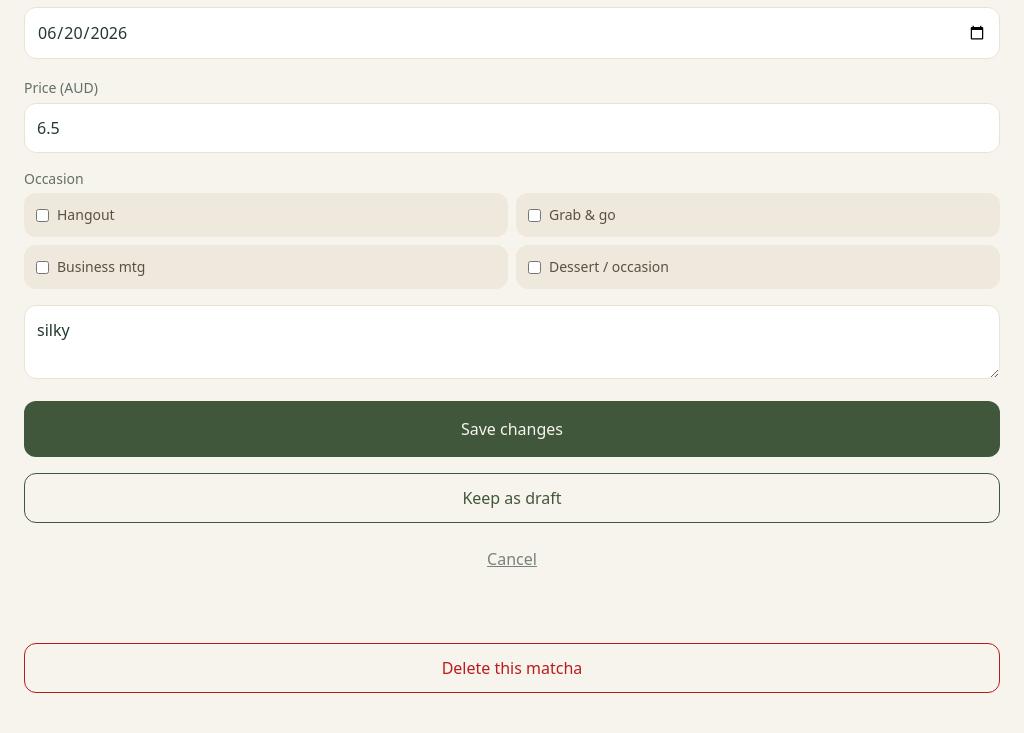
Test case: ReviewDetail › shows a delete-specific error when deleting a draft fails
This screenshot has width=1024, height=733.
(page scrolled)
Click the button "Delete this matcha" at (512, 668), box [24, 643, 1000, 693]
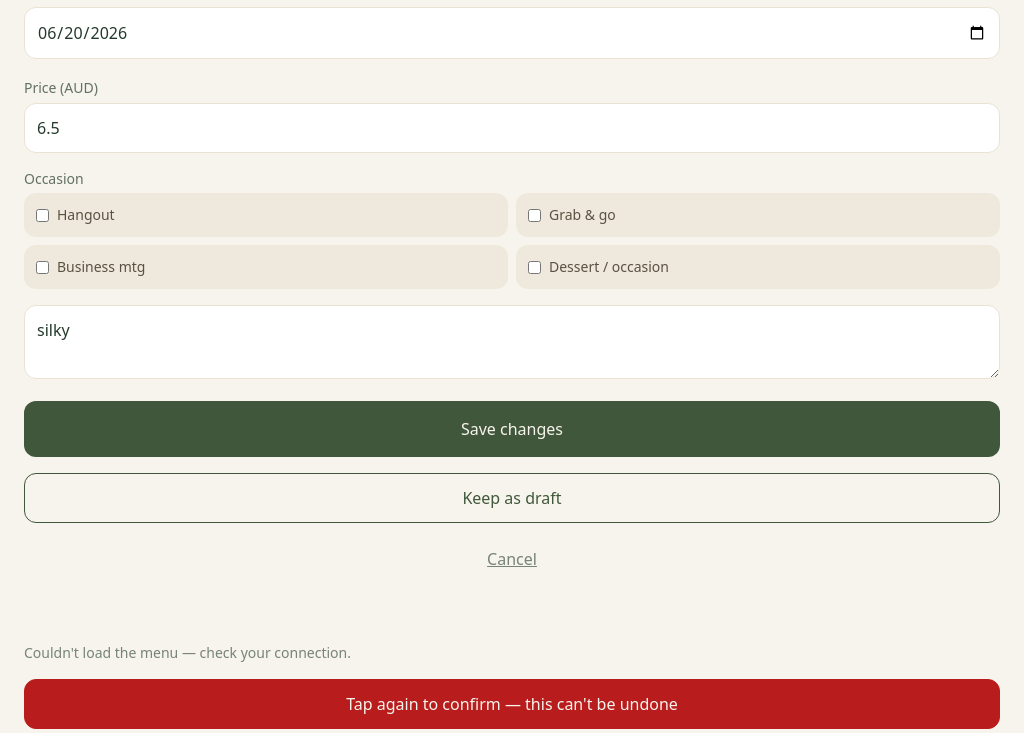
Click the button "Tap again to confirm — this can't be undone" at (512, 704), box [24, 679, 1000, 729]
(page scrolled)
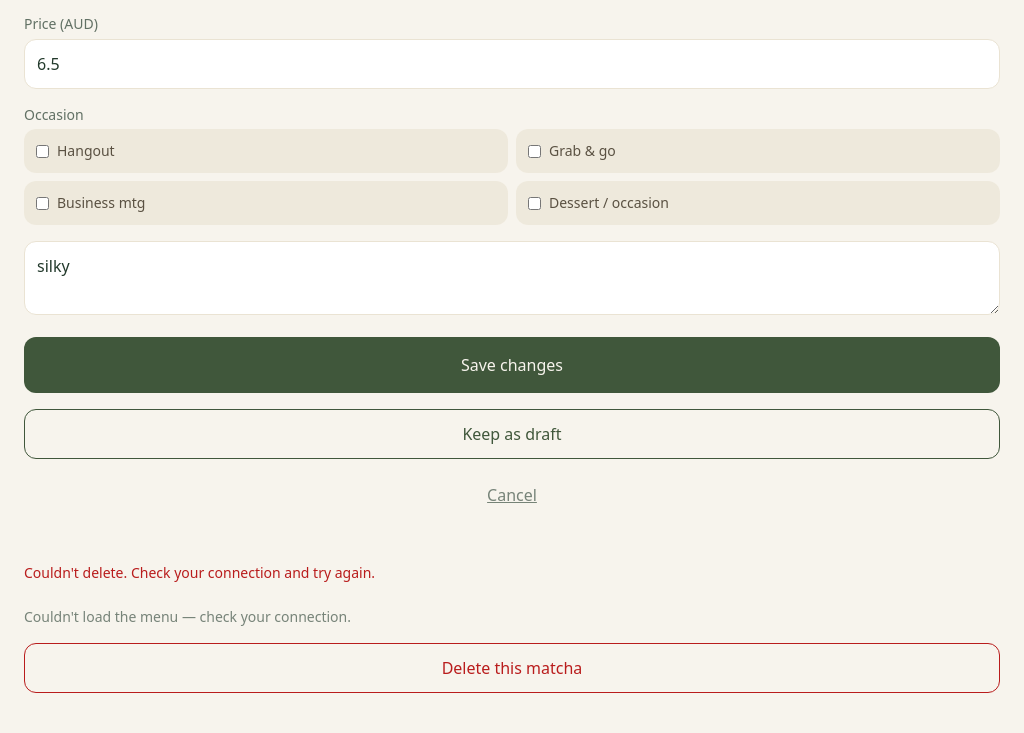
Expected: the button "Save changes" is shown, [24, 337, 1000, 393]
Expected: the text "Couldn't delete. Check your connection and try again." is shown, [24, 563, 375, 582]
